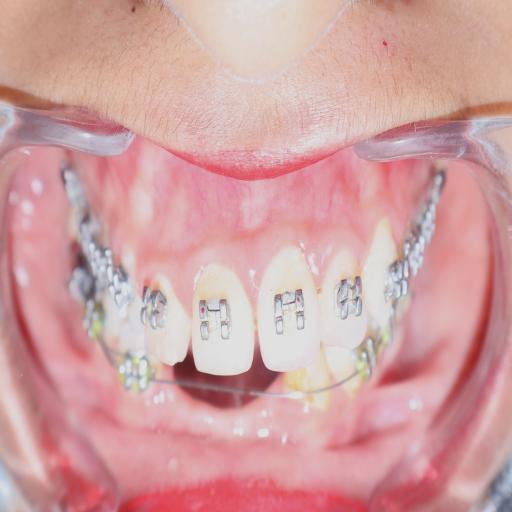correct_brace: (268, 277, 308, 341), (198, 289, 234, 343), (140, 280, 170, 336), (334, 274, 364, 322)
incorrect_brace: (138, 270, 193, 368), (320, 252, 370, 352)
